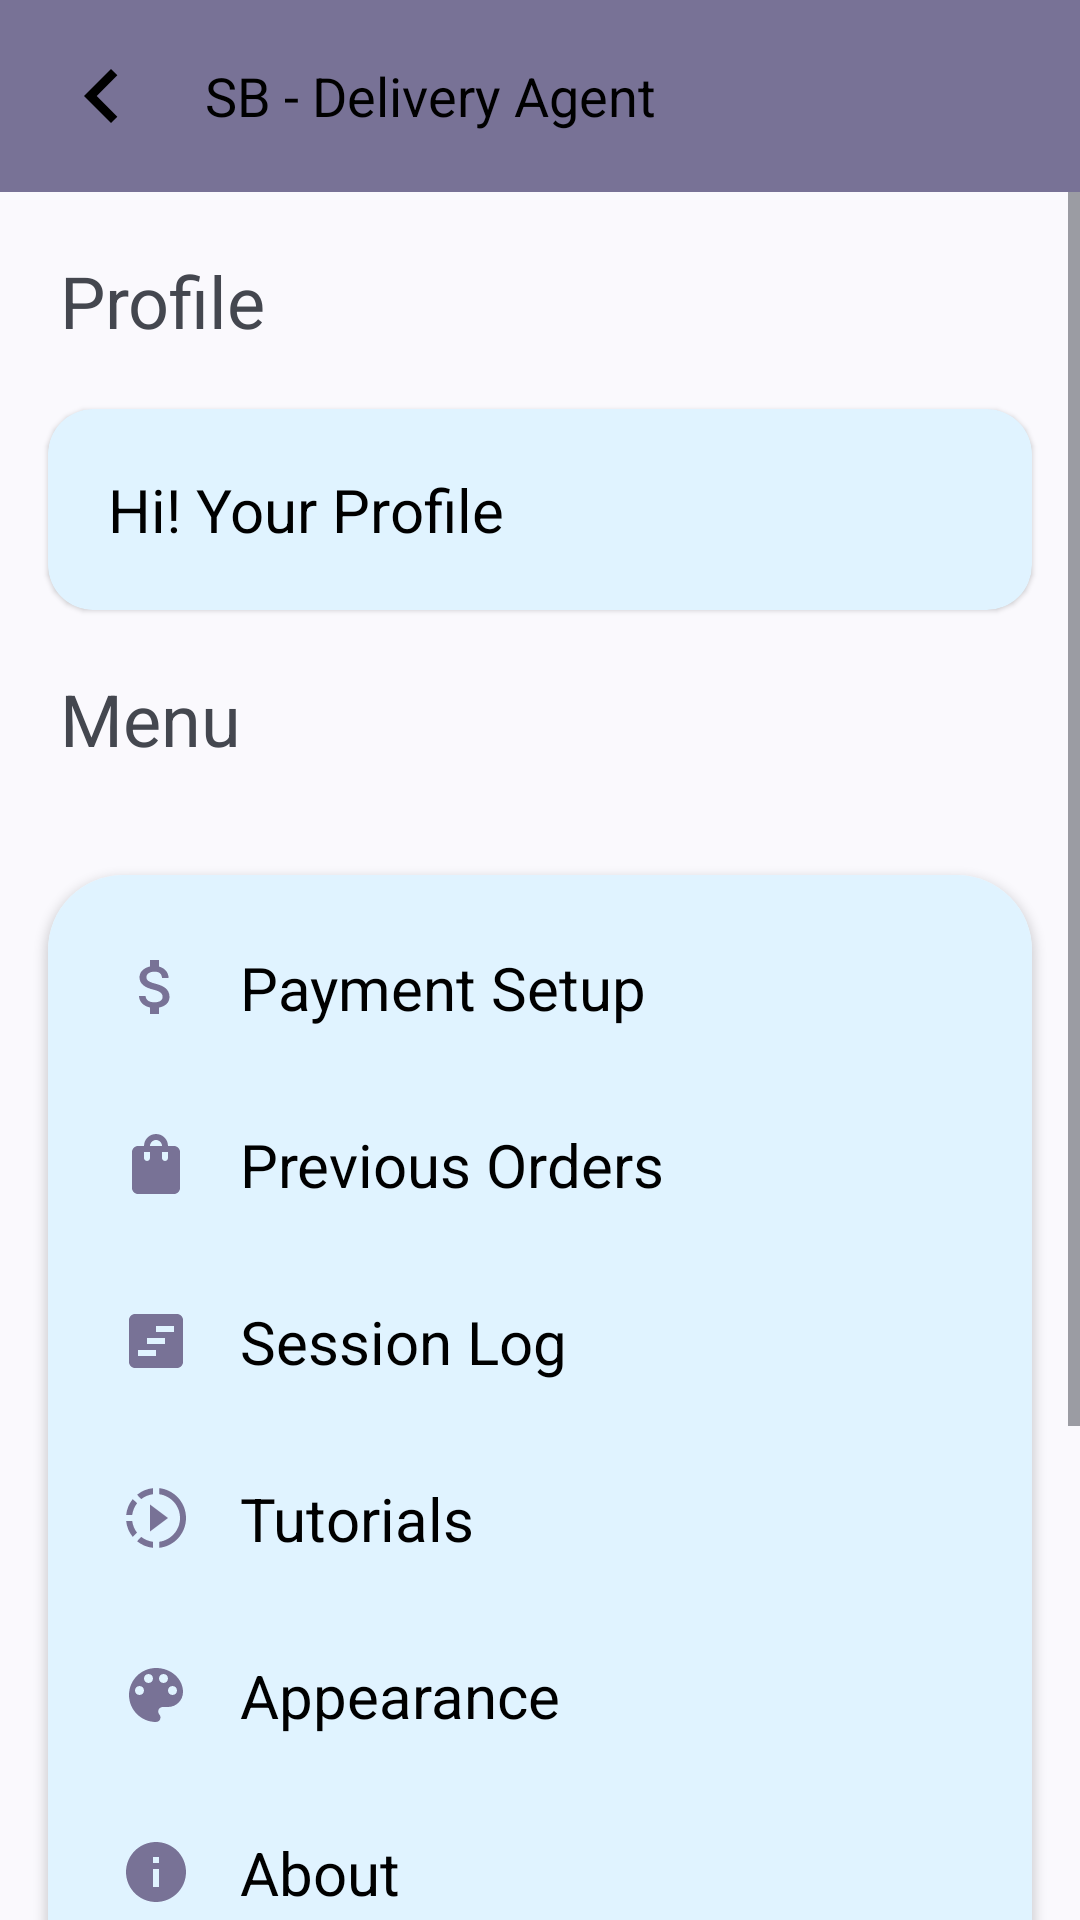

Named icons in this screenshot (1080x1920) and their centers, point (x, y):
chevron left: point (100, 96)
